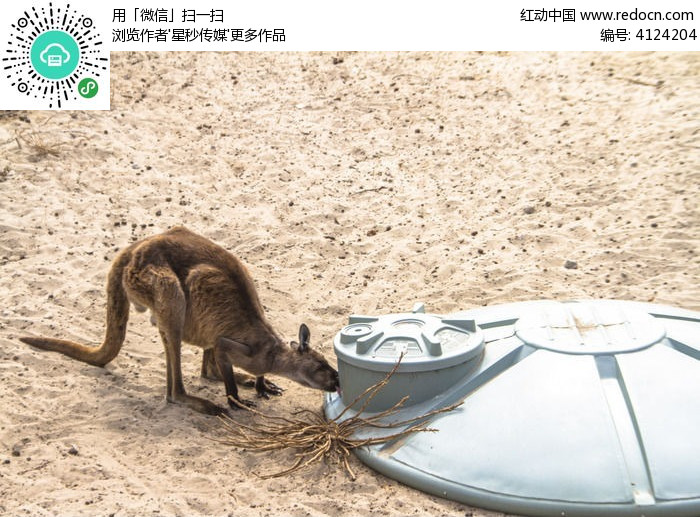kangaroo: (18, 224, 344, 418)
